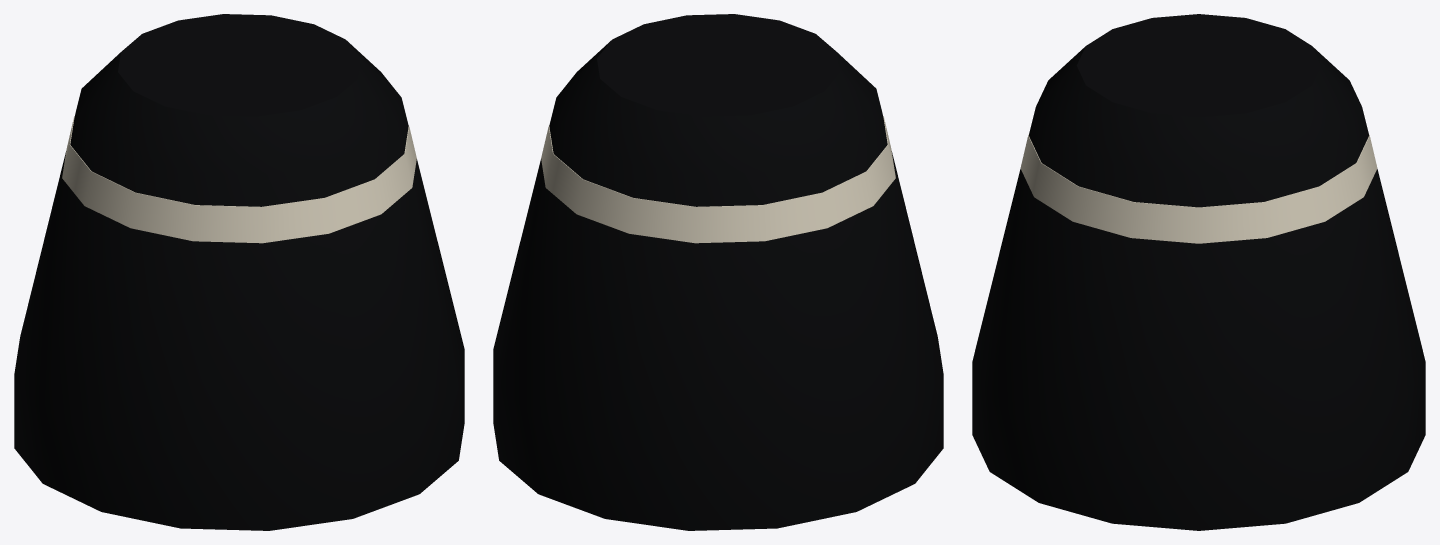
The model's file is bollard-level.glb.
The picture shows the model from 3 angles, left to right: view 1: azimuth 30°, elevation 25°; view 2: azimuth 150°, elevation 25°; view 3: azimuth 270°, elevation 25°; orthographic projection.
Parts seen in each view (by area): view 1: bollard-level; view 2: bollard-level; view 3: bollard-level.
Part boxes in pixels (box(x1,y1,x2,y2)): bollard-level: box(14, 14, 464, 530); bollard-level: box(493, 14, 943, 530); bollard-level: box(972, 14, 1425, 530).
Size of the model in its own units: 1 by 0.9 by 1.
1 material, 1 textured.
